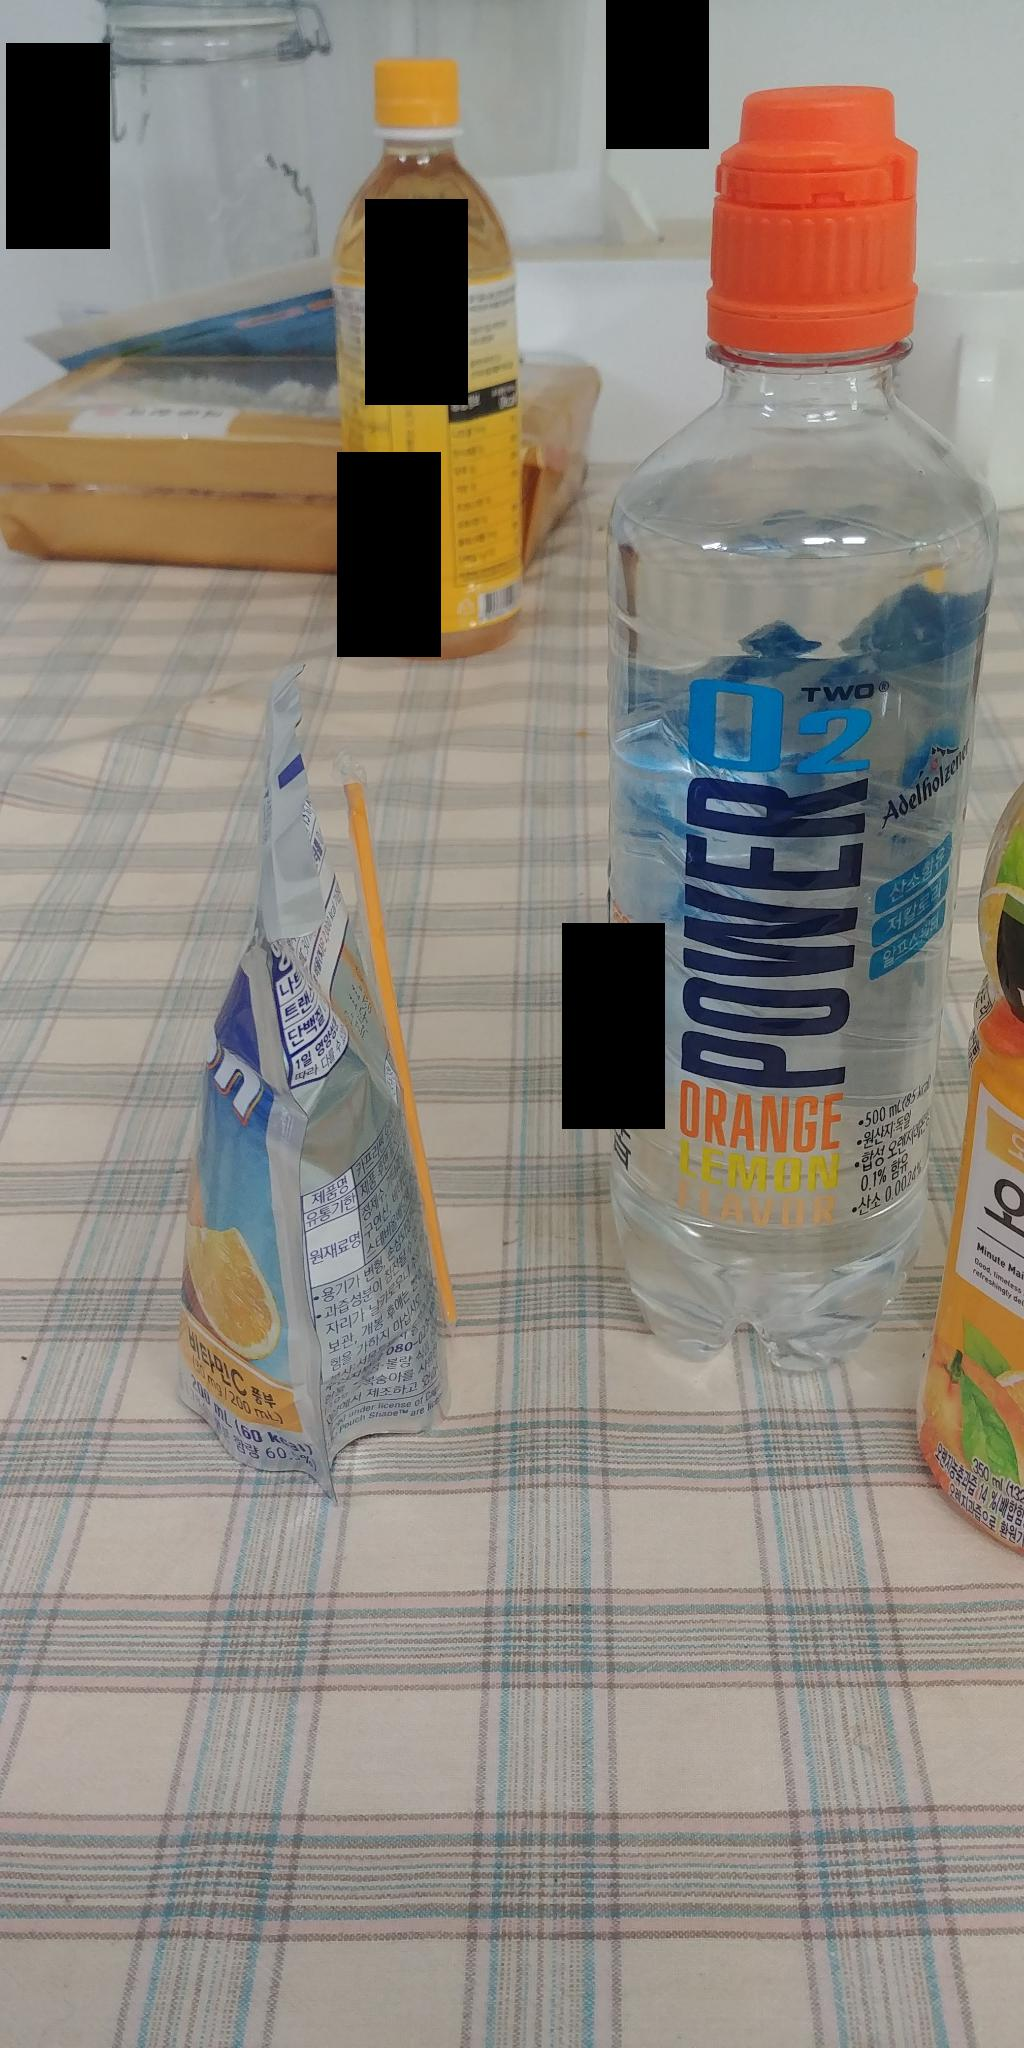cafrisun: (121, 654, 504, 1526)
powerO2_orange: (594, 54, 997, 1382)
